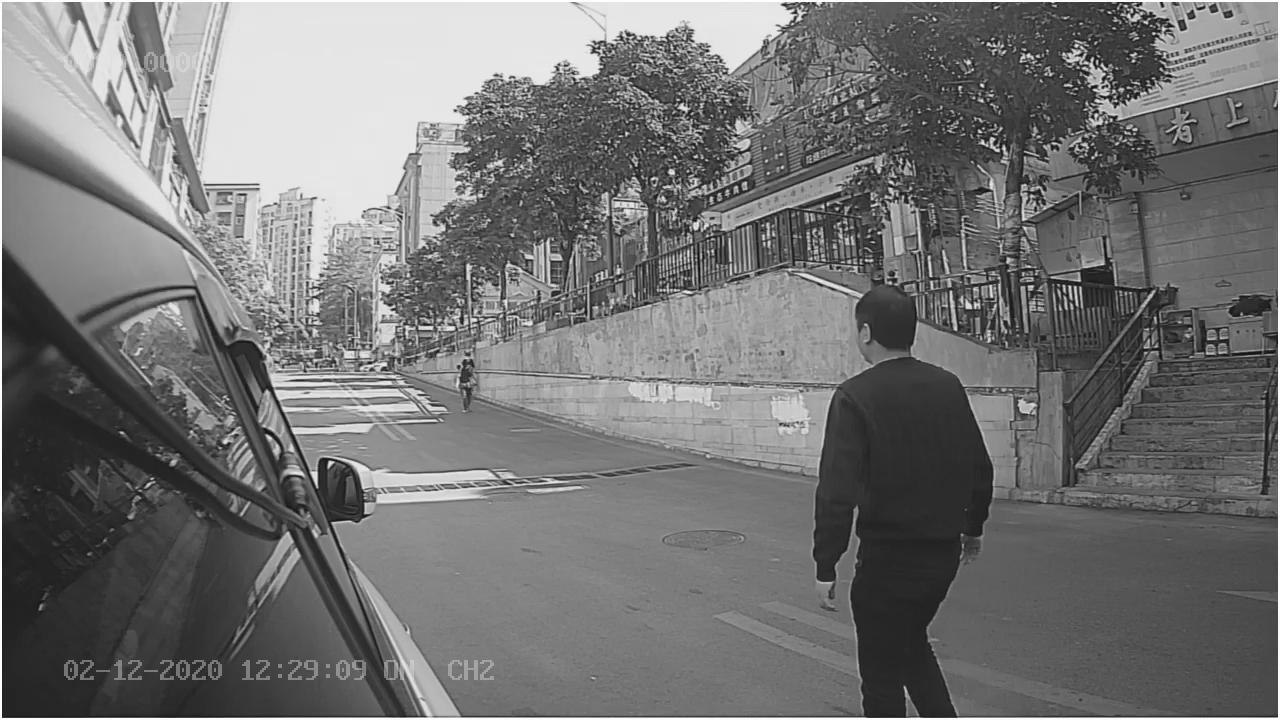person: (802, 271, 1008, 616)
